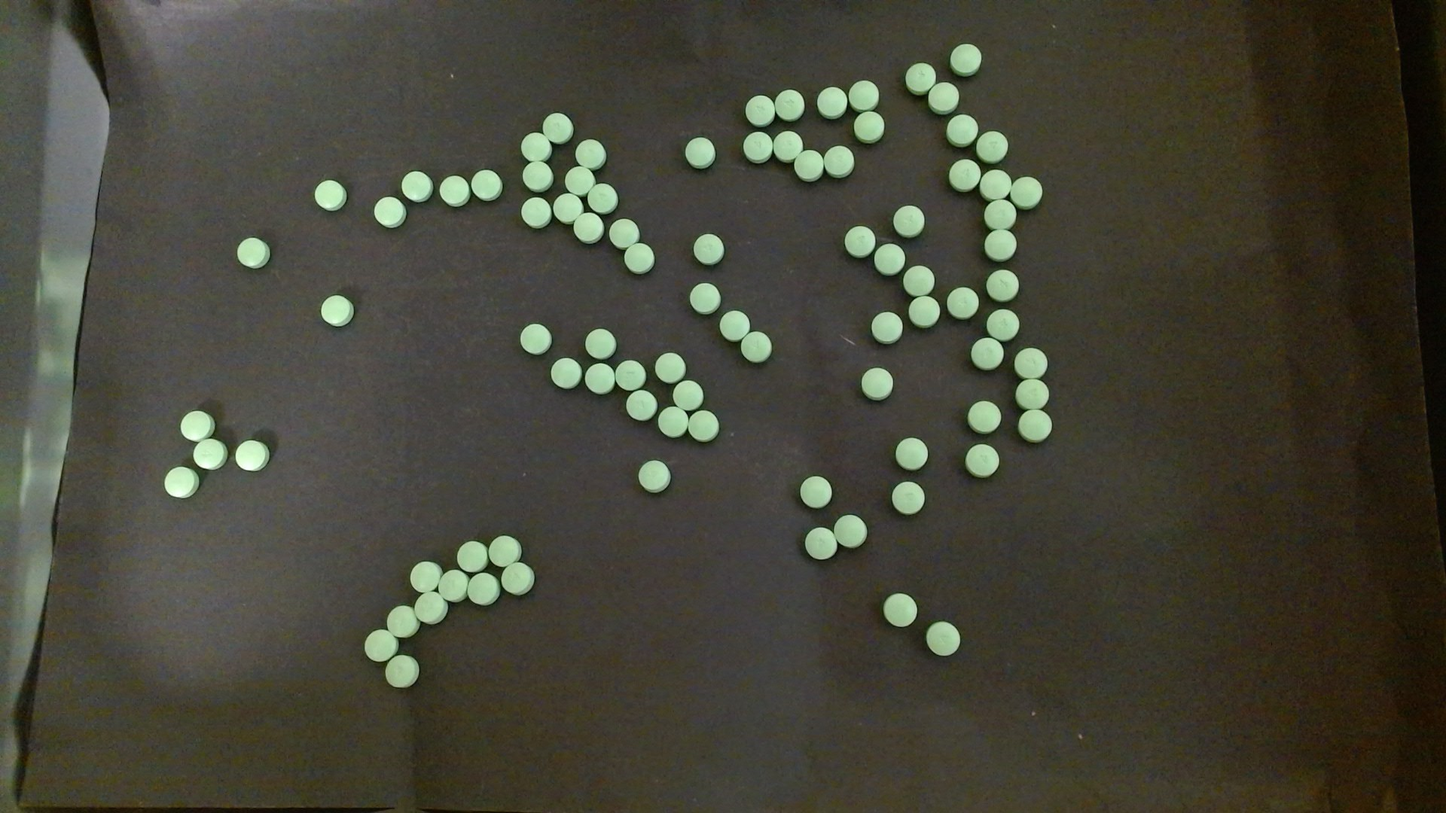Circle: (1017, 408, 1052, 442), (883, 592, 917, 626), (965, 443, 999, 477), (967, 400, 1001, 434), (833, 513, 866, 548), (926, 621, 959, 656), (163, 465, 198, 498), (234, 439, 270, 471), (385, 654, 418, 688), (892, 481, 925, 515), (501, 562, 535, 595), (804, 527, 837, 560), (365, 629, 398, 662), (894, 437, 927, 470), (637, 459, 670, 492), (986, 269, 1019, 302), (467, 571, 499, 605), (871, 310, 903, 344), (193, 438, 227, 470), (236, 237, 270, 269), (1010, 175, 1042, 209), (1014, 346, 1048, 378), (180, 410, 214, 442), (1015, 378, 1049, 410), (414, 591, 446, 624), (313, 179, 346, 211), (799, 476, 832, 508), (740, 331, 773, 363), (320, 294, 353, 326), (971, 337, 1003, 370), (892, 204, 924, 237), (984, 229, 1017, 261), (986, 308, 1019, 340), (976, 130, 1008, 163), (488, 535, 520, 567), (860, 367, 892, 399), (902, 265, 934, 297), (946, 114, 978, 146), (456, 540, 487, 573), (386, 605, 417, 638), (410, 560, 441, 593), (948, 158, 979, 191), (401, 170, 432, 202), (374, 196, 405, 228), (719, 309, 750, 341), (520, 322, 551, 354), (904, 62, 935, 94), (874, 242, 905, 274), (908, 296, 939, 328), (950, 43, 981, 75), (520, 196, 551, 228), (822, 145, 853, 177), (773, 88, 804, 120), (853, 110, 884, 142), (672, 379, 703, 411), (979, 169, 1011, 200), (551, 357, 581, 390), (816, 86, 847, 117), (657, 406, 688, 437), (626, 390, 657, 421), (584, 327, 615, 358), (471, 169, 502, 200), (654, 352, 685, 383), (575, 138, 606, 169), (947, 287, 978, 318), (693, 233, 724, 264), (984, 199, 1015, 230), (688, 410, 718, 442), (928, 82, 958, 114), (624, 242, 654, 274), (690, 282, 720, 314), (844, 225, 874, 257), (745, 94, 775, 126), (794, 149, 824, 181), (522, 160, 552, 192), (584, 362, 614, 394), (685, 137, 715, 169), (848, 80, 878, 111), (438, 570, 468, 601), (543, 112, 573, 143), (520, 132, 551, 162), (553, 193, 583, 224), (615, 360, 645, 391), (743, 131, 772, 163), (773, 129, 802, 161), (609, 218, 639, 248), (573, 212, 603, 242), (587, 183, 617, 213), (564, 166, 594, 196), (440, 175, 469, 206)
